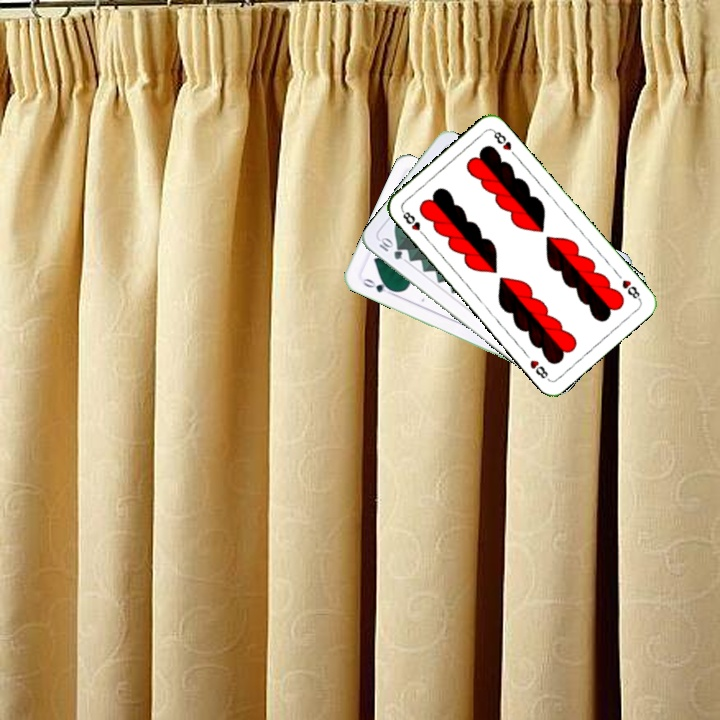G10: (375, 234, 405, 262)
GO: (359, 274, 397, 298)
H8: (397, 206, 428, 240), (618, 276, 643, 303)
